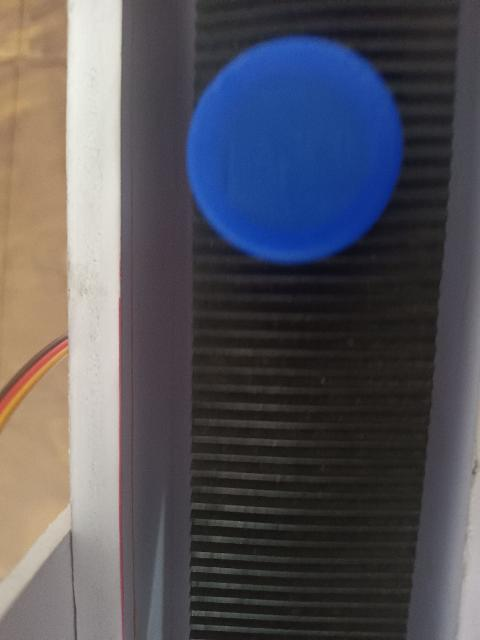bottlecap: (183, 36, 405, 266)
